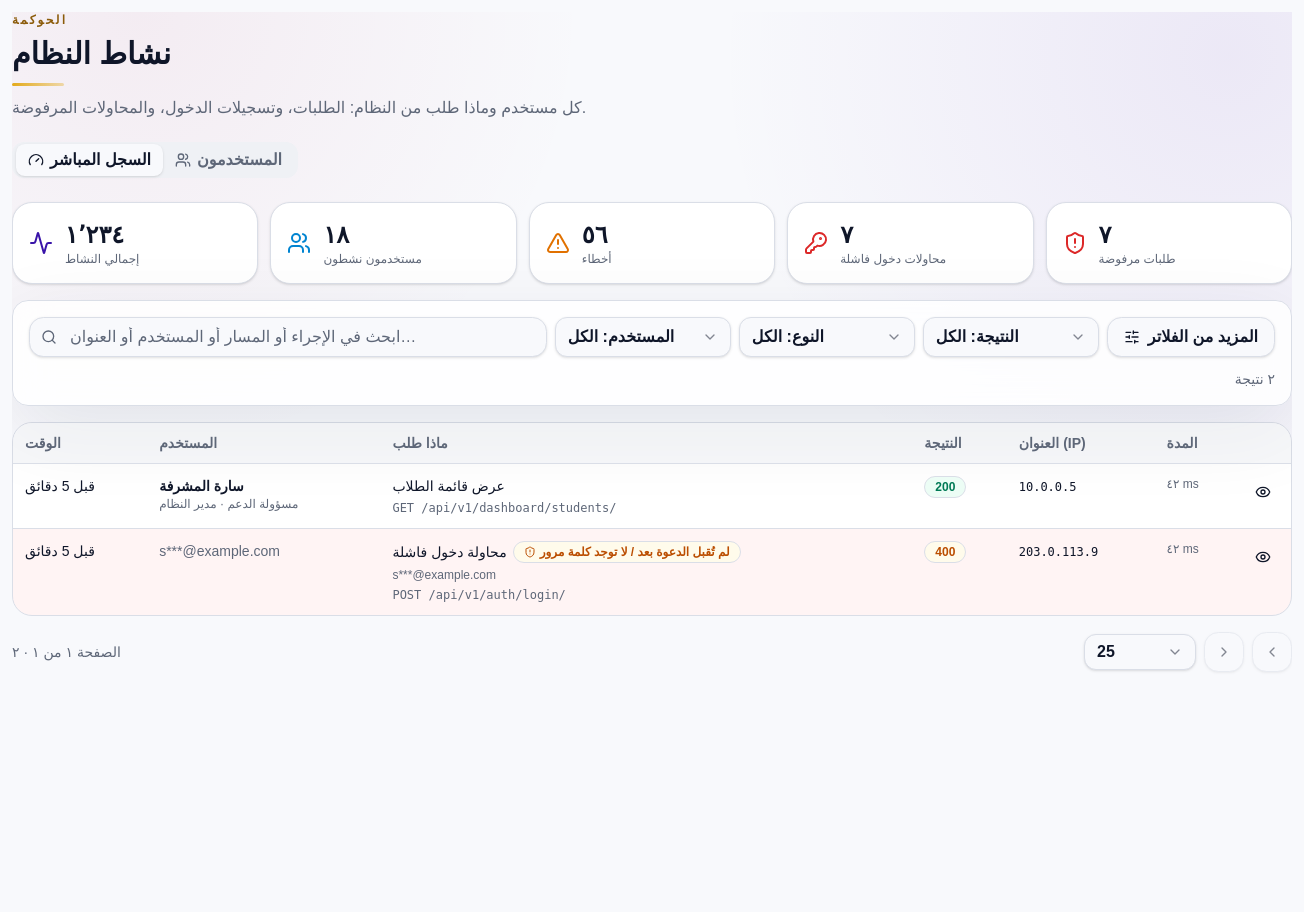
system activity page › switches tabs through the URL
This screenshot has width=1304, height=912.
Expected: the element with test id "login-reason" is shown, [513,541,741,563]
Click the tab "المستخدمون".
click(228, 160)  # box [163,144,294,176]
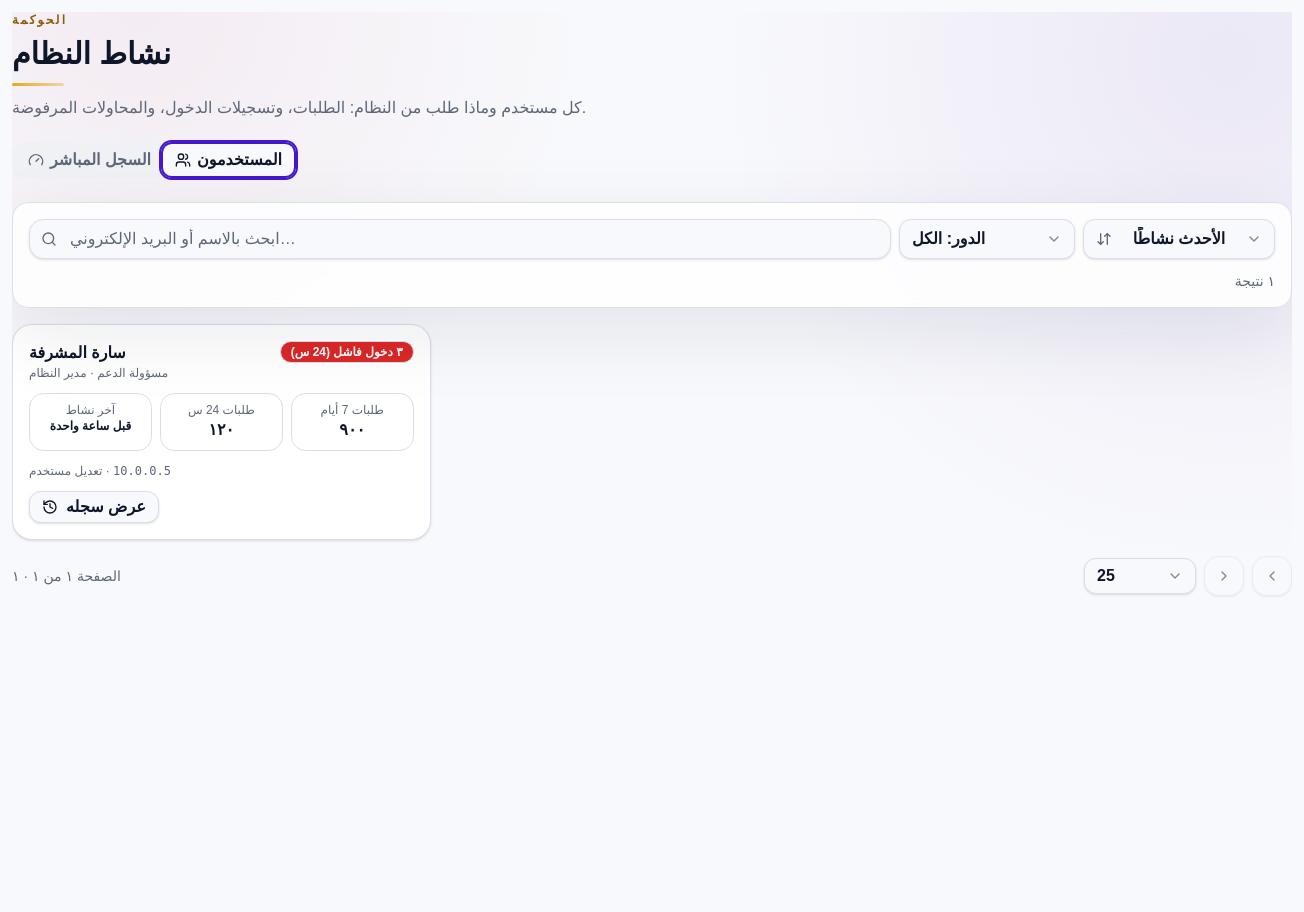
Expected: the list with test id "user-rollup" is shown, [12,324,431,540]
